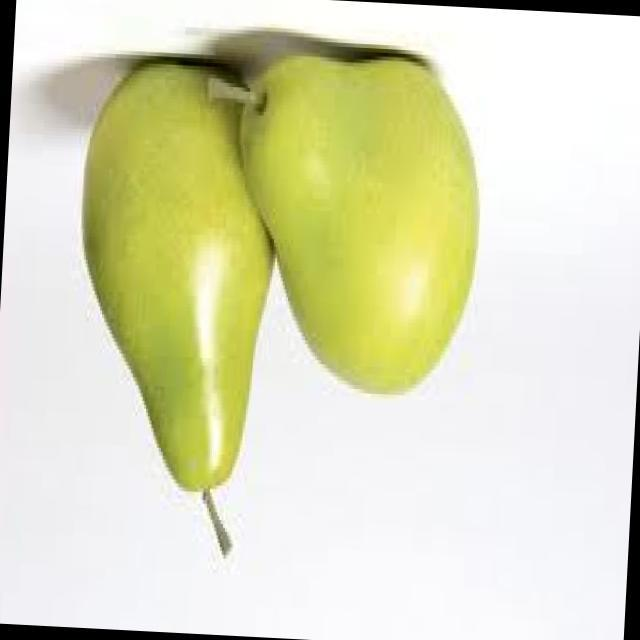Pear: (202, 37, 510, 416)
